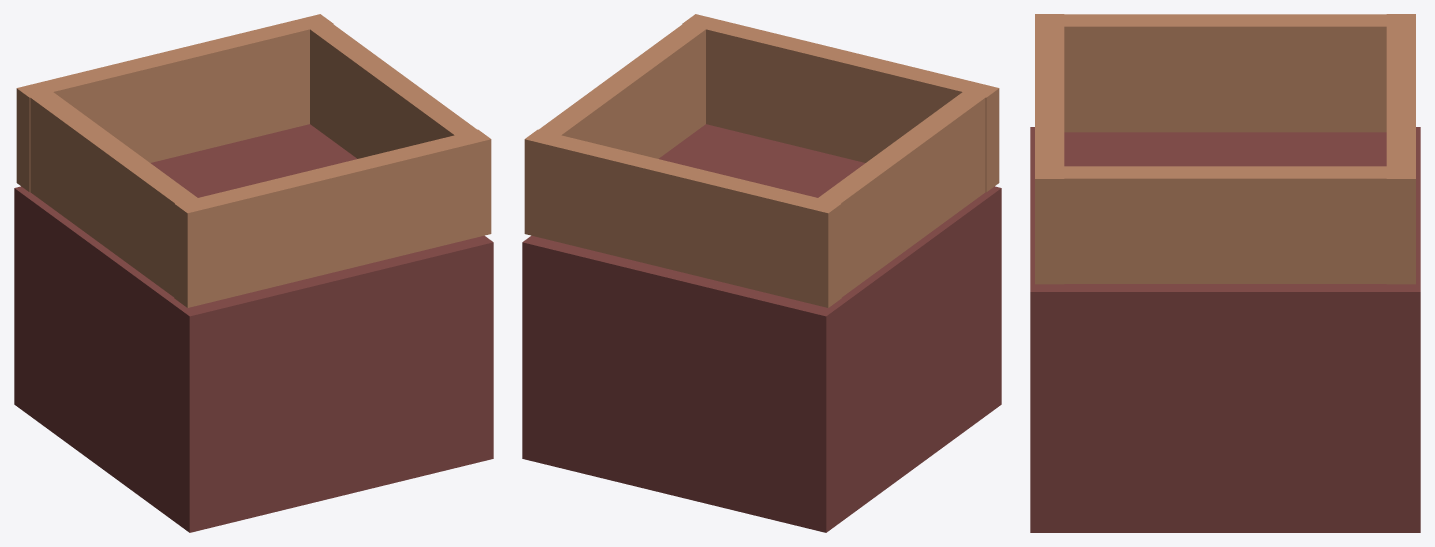
The model's file is rug.glb.
The picture shows the model from 3 angles, left to right: view 1: azimuth 30°, elevation 25°; view 2: azimuth 150°, elevation 25°; view 3: azimuth 270°, elevation 25°; orthographic projection. The views are drawn at different scales.
Visible parts, largest first — view 1: Rug field, South border, North border, West border, East border; view 2: Rug field, North border, South border, West border, East border; view 3: Rug field, West border, East border, South border, North border.
Boxes of the visible parts, x1=… form: Rug field: x1=14, y1=124, x2=493, y2=532; South border: x1=174, y1=129, x2=491, y2=307; North border: x1=16, y1=14, x2=333, y2=192; West border: x1=30, y1=90, x2=198, y2=297; East border: x1=309, y1=22, x2=477, y2=158; Rug field: x1=522, y1=124, x2=1001, y2=532; North border: x1=524, y1=129, x2=841, y2=307; South border: x1=682, y1=14, x2=999, y2=192; West border: x1=816, y1=91, x2=985, y2=297; East border: x1=538, y1=22, x2=706, y2=158; Rug field: x1=1030, y1=127, x2=1420, y2=532; West border: x1=1059, y1=14, x2=1391, y2=132; East border: x1=1060, y1=166, x2=1390, y2=283; South border: x1=1035, y1=14, x2=1064, y2=284; North border: x1=1386, y1=14, x2=1415, y2=284.
Size of the model in its own units: 1 by 1 by 1.
